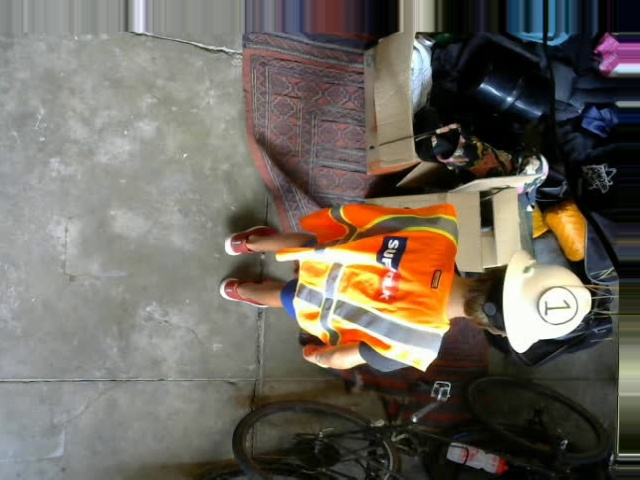one: (537, 285, 578, 324)
